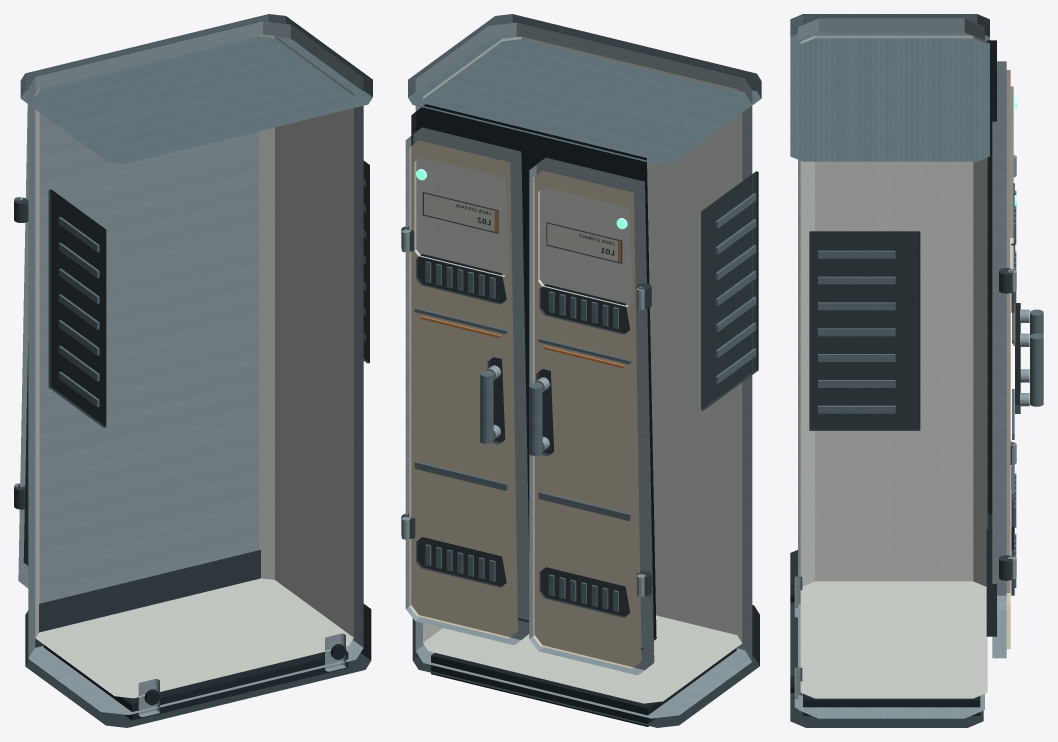
File: locker.glb
3 views of the same model, side by side, from view 1: azimuth 30°, elevation 25°; view 2: azimuth 150°, elevation 25°; view 3: azimuth 270°, elevation 25° (orthographic).
Parts seen in each view (by area): view 1: static__alloy, static__shell, static__trim, static__graphite, static__carbon, Door_L01__alloy, Door_L01__graphite; view 2: static__shell, Door_L01__cream, Door_L02__cream, static__trim, static__carbon, static__alloy, static__graphite, Door_L02__alloy, Door_L01__alloy, Door_L02__shell, Door_L01__shell, Door_L01__graphite (+5 smaller); view 3: static__shell, static__trim, static__graphite, Door_L02__alloy, static__alloy, static__carbon, Door_L02__cream, Door_L02__trim, Door_L02__graphite, Door_L01__alloy, Door_L01__trim, Door_L02__shell.
Part boxes in pixels (left/top/right/bottom): static__alloy: left=28, top=21, right=363, bottom=716; static__shell: left=35, top=34, right=353, bottom=698; static__trim: left=20, top=14, right=372, bottom=407; static__graphite: left=25, top=161, right=371, bottom=727; static__carbon: left=23, top=341, right=348, bottom=720; Door_L01__alloy: left=14, top=104, right=28, bottom=588; Door_L01__graphite: left=14, top=197, right=28, bottom=509; static__shell: left=423, top=36, right=742, bottom=703; Door_L01__cream: left=533, top=170, right=641, bottom=668; Door_L02__cream: left=409, top=140, right=517, bottom=638; static__trim: left=408, top=14, right=761, bottom=383; static__carbon: left=411, top=104, right=736, bottom=726; static__alloy: left=415, top=22, right=752, bottom=718; static__graphite: left=412, top=171, right=759, bottom=727; Door_L02__alloy: left=401, top=127, right=529, bottom=645; Door_L01__alloy: left=529, top=157, right=654, bottom=675; Door_L02__shell: left=414, top=157, right=509, bottom=276; Door_L01__shell: left=538, top=187, right=633, bottom=306; Door_L01__graphite: left=536, top=283, right=651, bottom=617; static__shell: left=800, top=35, right=987, bottom=698; static__trim: left=790, top=14, right=989, bottom=413; static__graphite: left=790, top=231, right=983, bottom=727; Door_L02__alloy: left=992, top=121, right=1029, bottom=658; static__alloy: left=794, top=18, right=984, bottom=718; static__carbon: left=790, top=40, right=996, bottom=715; Door_L02__cream: left=1006, top=130, right=1010, bottom=649; Door_L02__trim: left=1012, top=251, right=1043, bottom=587; Door_L02__graphite: left=999, top=243, right=1020, bottom=595; Door_L01__alloy: left=997, top=61, right=1029, bottom=464; Door_L01__trim: left=1012, top=190, right=1043, bottom=527; Door_L02__shell: left=1010, top=146, right=1013, bottom=269.
Bounding box in the file's own units: 0.988 × 2.04 × 0.8.
10 materials, 10 textured.
